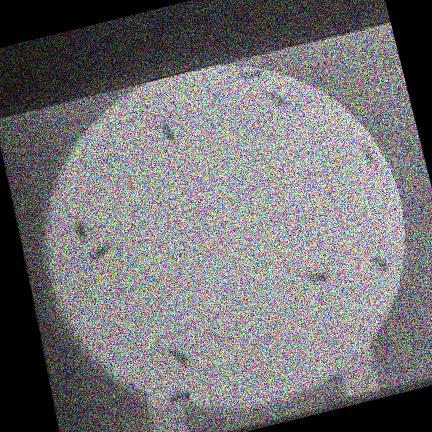fly: (89, 239, 112, 260), (168, 346, 191, 366), (264, 89, 291, 106), (159, 121, 177, 145), (368, 255, 388, 272), (72, 217, 85, 242), (360, 142, 374, 164), (168, 390, 191, 403), (238, 68, 265, 78), (304, 271, 328, 282)
